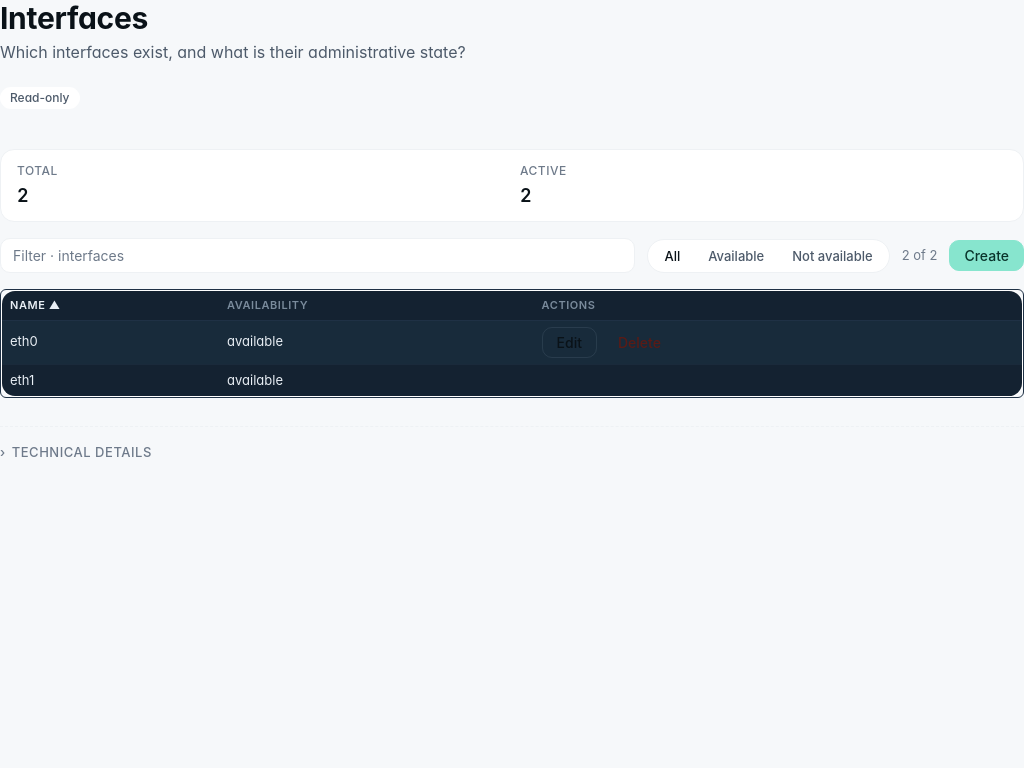
Test: ObjectsPage — real Create / Edit / Delete wiring › opens ConfiguratorShell with the create title when Create is clicked
expect the text "eth0" is shown: met, box top-left (2, 320), bottom-right (219, 364)
Click the button "Create" at (987, 256), box top-left (949, 240), bottom-right (1023, 271)
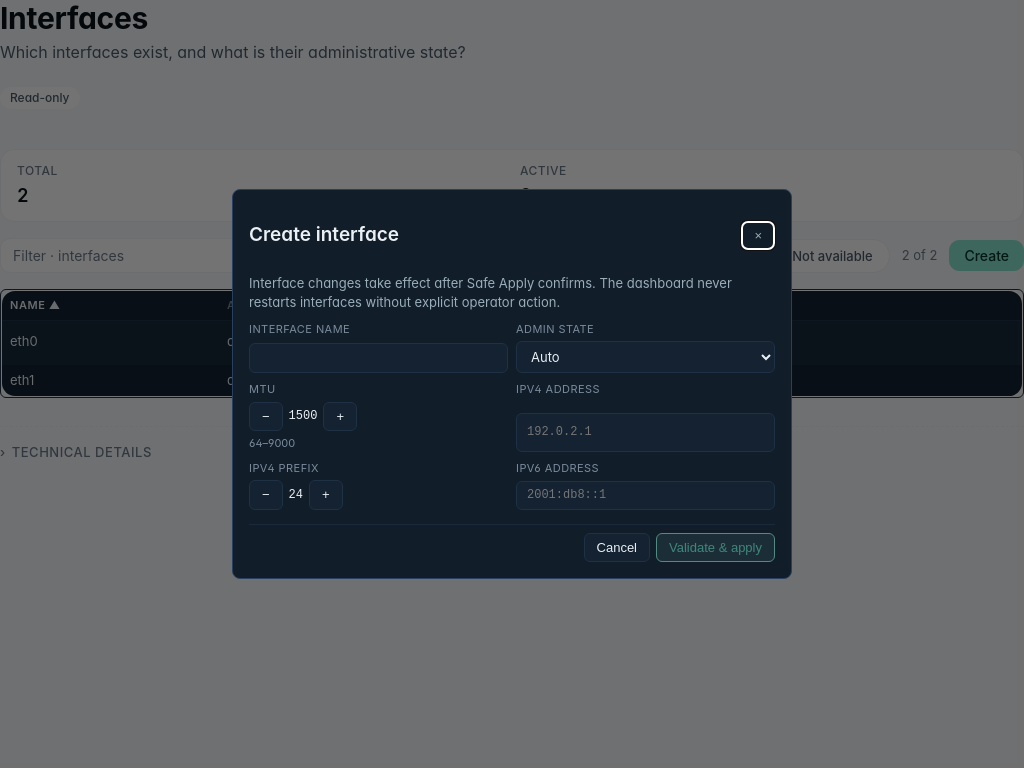
expect the dialog is shown: met, box top-left (232, 189), bottom-right (792, 579)
expect the heading "Create interface" is shown: met, box top-left (249, 221), bottom-right (399, 250)
